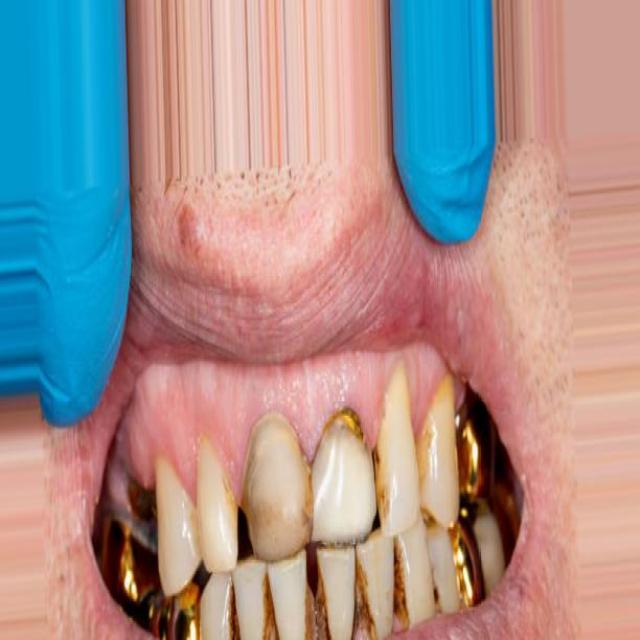caries: (117, 462, 172, 528)
